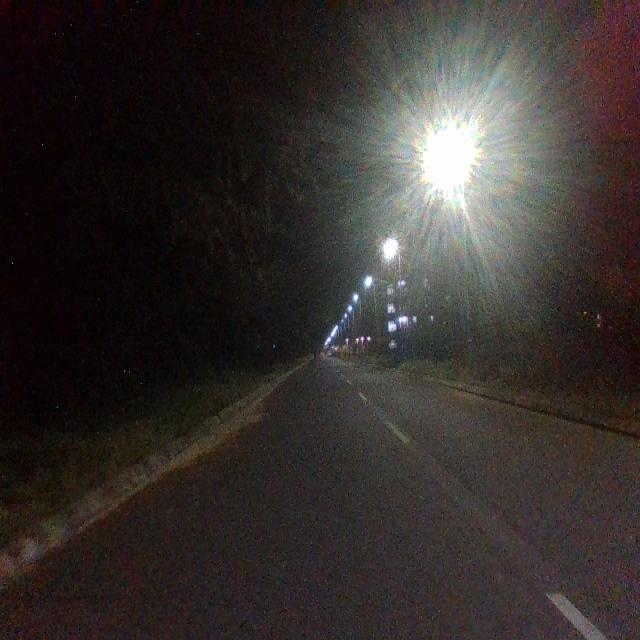lane: (0, 363, 586, 640)
